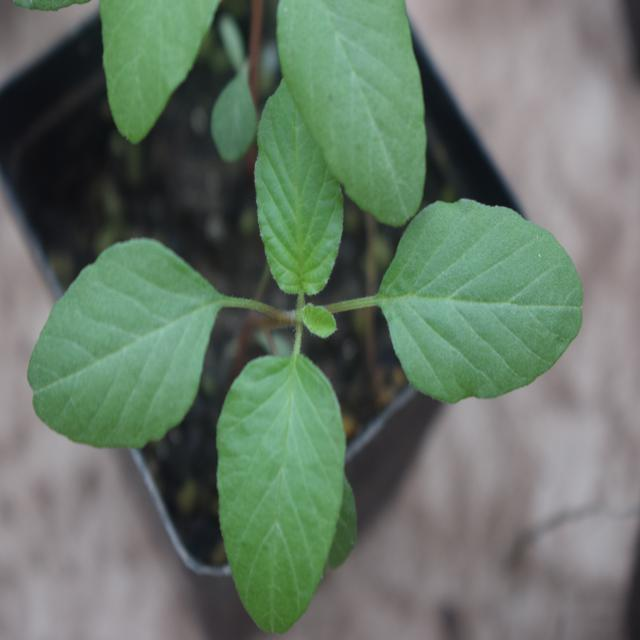pigweed: (51, 86, 556, 607)
